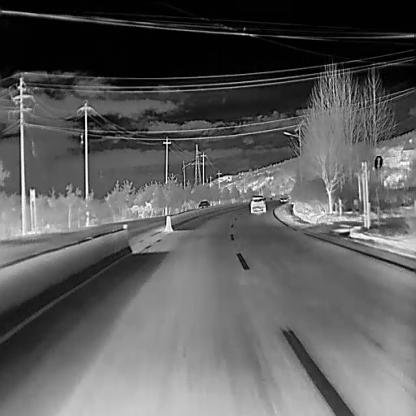car: (250, 194, 265, 213), (197, 200, 210, 208)
